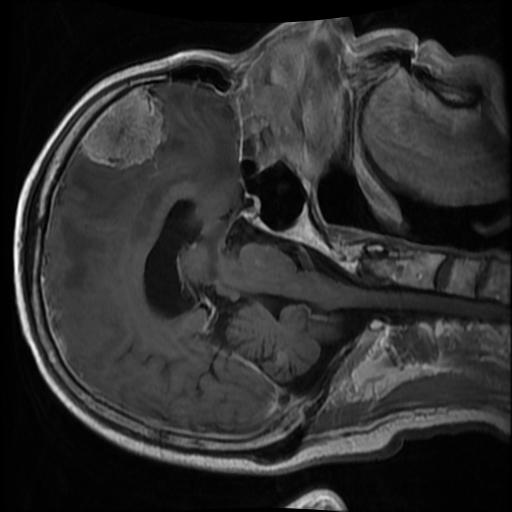meningioma: (80, 85, 164, 171)
